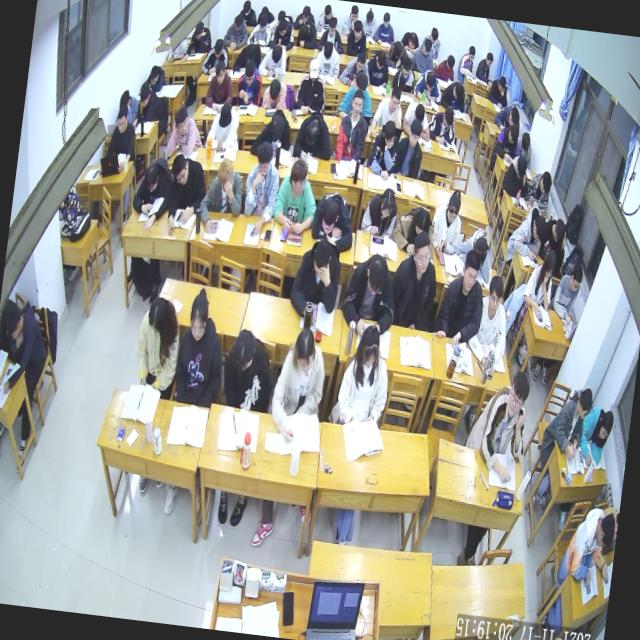bow: (128, 153, 174, 237), (307, 187, 359, 255), (390, 202, 438, 258), (248, 104, 294, 160), (505, 202, 548, 260), (291, 106, 335, 162), (163, 102, 206, 158), (455, 224, 495, 284), (400, 96, 434, 141), (337, 49, 372, 91), (411, 68, 444, 108), (256, 42, 288, 78), (230, 39, 262, 74), (260, 74, 290, 110), (492, 101, 523, 135), (440, 78, 467, 114), (139, 60, 167, 94), (384, 36, 411, 70), (294, 19, 318, 50), (399, 29, 421, 55)
down: (229, 323, 259, 378), (290, 322, 319, 377), (524, 166, 554, 213), (356, 322, 384, 371), (362, 251, 390, 298), (186, 290, 210, 343), (145, 292, 169, 338), (592, 507, 616, 551), (214, 155, 238, 193), (318, 198, 340, 238), (309, 240, 332, 278), (442, 188, 462, 228), (3, 304, 24, 342), (141, 160, 161, 196), (596, 406, 616, 442), (436, 49, 458, 81), (170, 153, 190, 187), (267, 108, 286, 142), (576, 387, 594, 421), (302, 118, 321, 148), (379, 187, 396, 220), (530, 213, 548, 244), (567, 264, 584, 296), (411, 206, 429, 236), (217, 102, 234, 132), (381, 119, 398, 149), (541, 248, 557, 278), (137, 80, 152, 110), (550, 218, 566, 246), (514, 152, 528, 182), (266, 77, 282, 103), (354, 68, 370, 94), (440, 106, 456, 131), (242, 60, 257, 86), (473, 234, 488, 260), (506, 103, 522, 127), (244, 41, 260, 64), (538, 170, 552, 196), (146, 64, 160, 89), (388, 87, 402, 112), (269, 41, 284, 64), (307, 58, 321, 82), (519, 128, 533, 152), (353, 51, 367, 74), (506, 122, 520, 144), (400, 57, 413, 80), (412, 100, 425, 122), (451, 80, 464, 102), (296, 22, 310, 42), (118, 88, 131, 109), (256, 12, 269, 33), (192, 19, 204, 41), (424, 69, 436, 91), (231, 12, 244, 32), (379, 10, 392, 30), (211, 37, 223, 58), (322, 39, 334, 60), (350, 19, 362, 40), (374, 50, 386, 71), (428, 23, 440, 44), (276, 18, 288, 38), (300, 4, 312, 24), (348, 4, 360, 24), (364, 6, 376, 26), (420, 36, 432, 56), (444, 52, 456, 72), (497, 74, 508, 95), (322, 1, 334, 20), (392, 42, 404, 61), (407, 30, 418, 50), (327, 16, 337, 36), (484, 50, 495, 68), (466, 43, 476, 62), (240, 0, 252, 15)
lookup: (504, 370, 532, 420), (409, 230, 434, 278), (253, 137, 275, 179), (461, 248, 481, 292), (485, 273, 505, 314), (114, 104, 130, 136), (212, 58, 228, 88), (408, 118, 423, 148), (349, 89, 364, 118)
sit: (461, 366, 534, 487), (266, 324, 330, 445), (170, 286, 231, 406), (334, 321, 396, 434), (128, 290, 184, 398), (338, 248, 401, 342), (386, 226, 442, 331), (436, 240, 490, 344), (556, 500, 618, 590), (217, 324, 278, 412), (286, 234, 344, 324), (0, 298, 53, 396), (465, 270, 514, 370), (238, 136, 286, 238), (540, 378, 594, 459), (196, 154, 248, 238), (270, 152, 322, 236), (162, 150, 210, 238), (333, 88, 372, 164), (426, 187, 466, 260), (519, 246, 557, 322), (576, 405, 616, 469), (104, 103, 140, 174), (365, 118, 402, 182), (335, 68, 376, 124), (292, 56, 330, 116), (550, 258, 584, 324), (392, 117, 427, 180), (368, 85, 406, 142), (360, 183, 400, 237), (204, 100, 243, 154), (202, 59, 236, 112), (180, 19, 214, 67), (500, 152, 532, 200), (537, 214, 568, 261), (492, 118, 522, 164), (427, 102, 459, 145), (135, 80, 167, 122), (200, 32, 230, 76), (316, 15, 346, 54), (222, 11, 250, 52), (314, 38, 342, 78), (268, 14, 297, 52), (114, 85, 140, 126), (391, 55, 418, 94), (246, 9, 273, 47), (362, 50, 388, 88), (410, 36, 437, 72), (344, 18, 368, 58), (372, 8, 398, 44), (486, 70, 512, 106), (474, 46, 496, 84), (514, 130, 536, 166), (456, 41, 476, 79), (421, 24, 443, 58), (359, 6, 382, 38), (292, 2, 318, 30), (316, 1, 337, 34), (340, 3, 360, 36), (237, 0, 259, 25), (432, 246, 447, 267), (277, 147, 291, 167), (0, 349, 7, 379)
